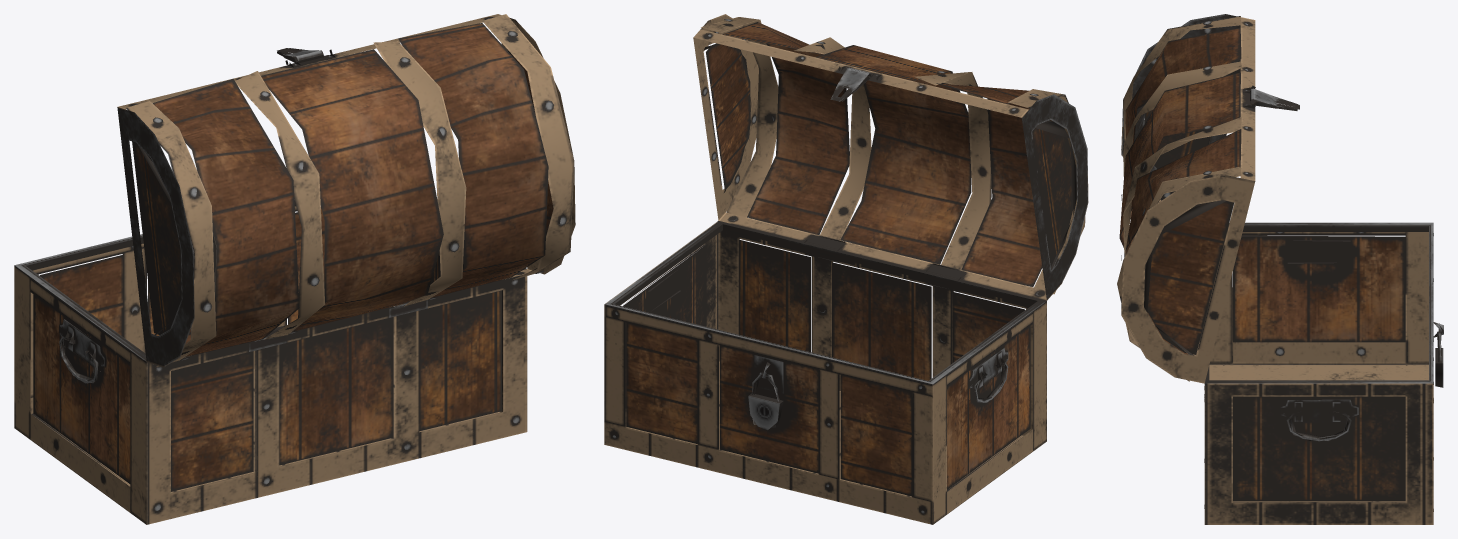
File: chest_open_lod1.glb
The picture shows the model from 3 angles, left to right: view 1: azimuth 30°, elevation 25°; view 2: azimuth 150°, elevation 25°; view 3: azimuth 270°, elevation 25°; orthographic projection. The views are drawn at different scales.
Parts seen in each view (by area): view 1: chest_open_lod1; view 2: chest_open_lod1; view 3: chest_open_lod1.
Boxes of the visible parts, x1=… form: chest_open_lod1: x1=14, y1=14, x2=575, y2=524; chest_open_lod1: x1=604, y1=14, x2=1088, y2=524; chest_open_lod1: x1=1117, y1=14, x2=1443, y2=524.
Size of the model in its own units: 0.4393 by 0.4389 by 0.3694.
1 material, 1 textured.
